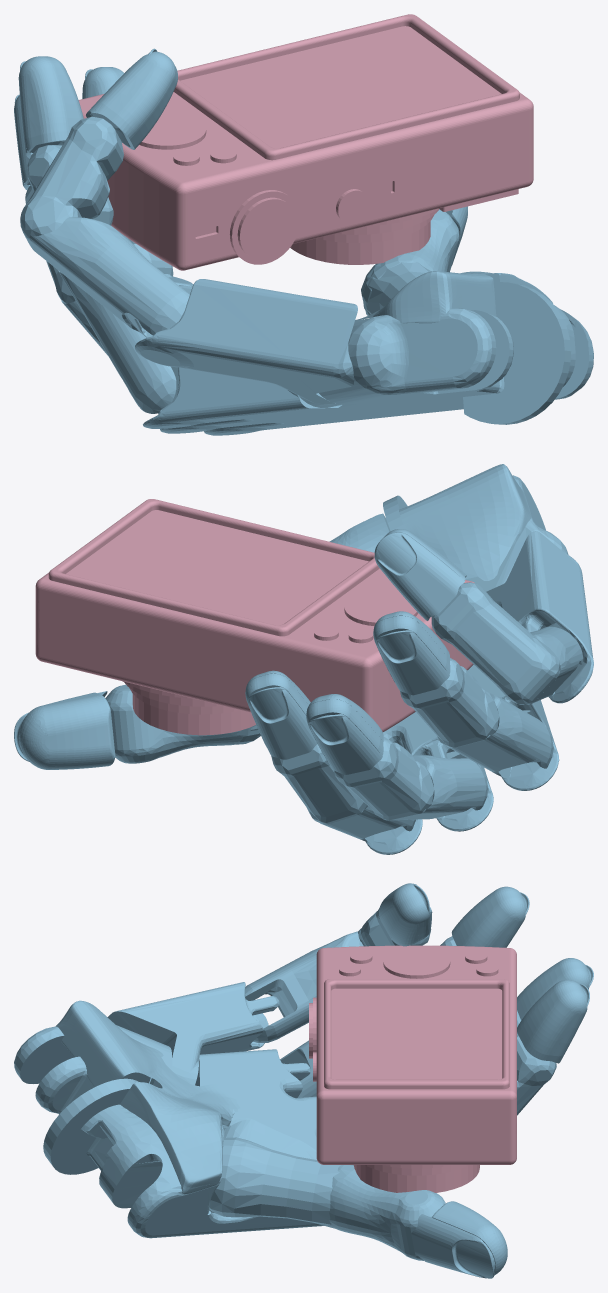
The picture shows the model from 3 angles, top to bottom: view 1: azimuth 30°, elevation 25°; view 2: azimuth 150°, elevation 25°; view 3: azimuth 270°, elevation 25°; orthographic projection. The views are drawn at different scales.
Visible parts, largest first — view 1: world; view 2: world; view 3: world.
Part boxes in pixels (x1,y1,x2,y2): world: [14, 14, 593, 435]; world: [14, 464, 593, 854]; world: [14, 883, 593, 1278].
Bounding box in the file's own units: 0.1613 × 0.1125 × 0.1872.
